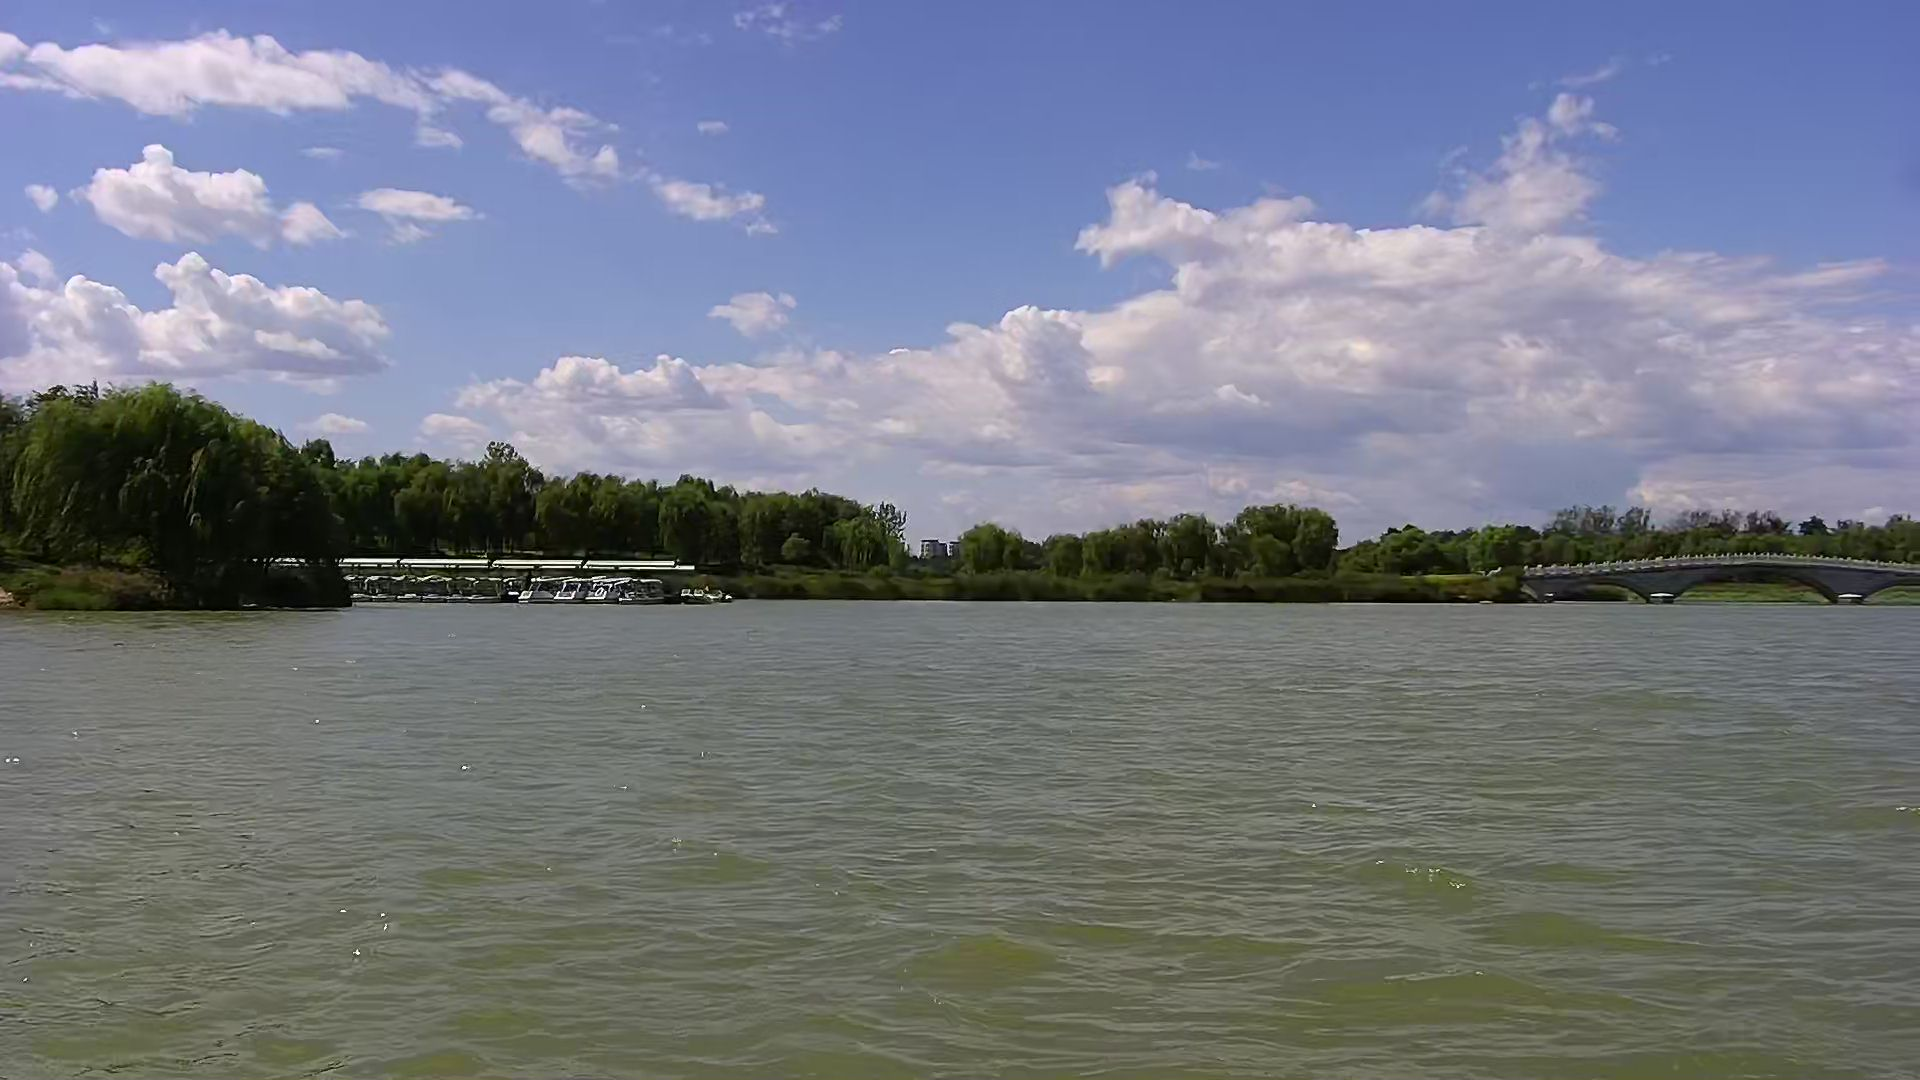bridge: (1534, 554, 1920, 608)
harbor: (338, 556, 735, 603)
